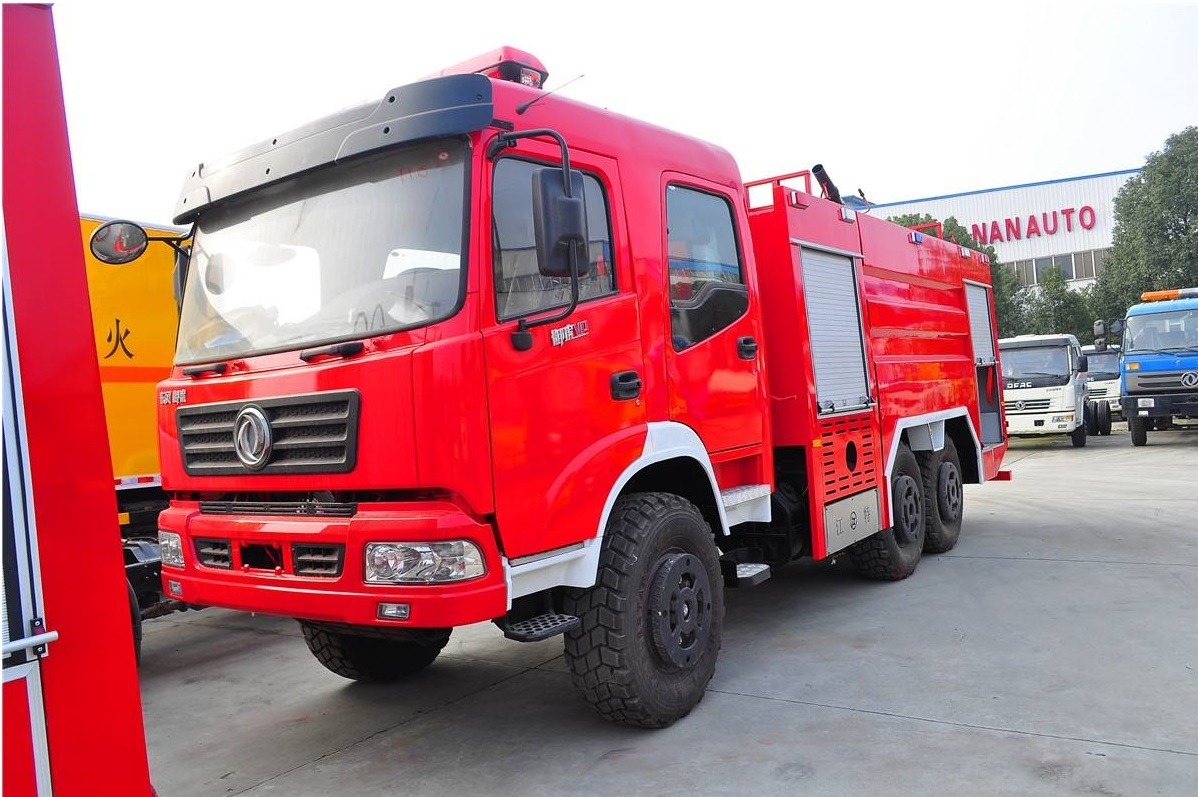fire engine: (134, 72, 1028, 717)
